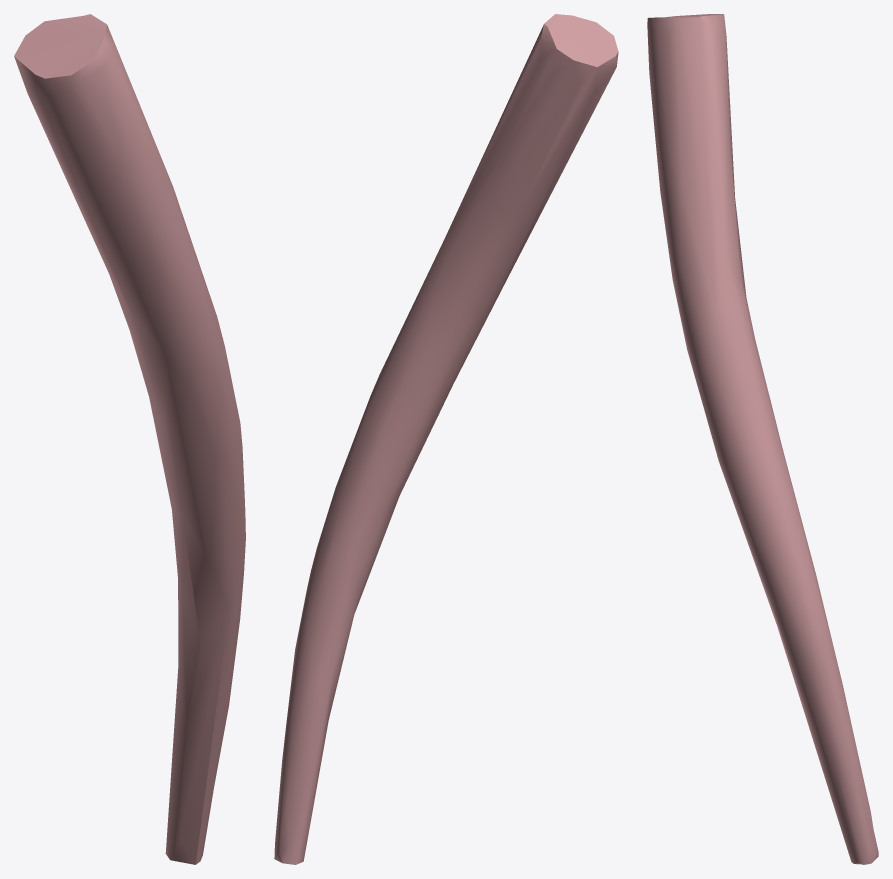
Rendered from fma68232_fj2532.glb.
3 views of the same model, side by side, from view 1: azimuth 30°, elevation 25°; view 2: azimuth 150°, elevation 25°; view 3: azimuth 270°, elevation 25° (orthographic). The views are drawn at different scales.
Parts seen in each view (by area): view 1: FMA68232_FJ2532; view 2: FMA68232_FJ2532; view 3: FMA68232_FJ2532.
Part boxes in pixels (x1,y1,x2,y2): FMA68232_FJ2532: [14, 14, 245, 864]; FMA68232_FJ2532: [274, 14, 618, 864]; FMA68232_FJ2532: [647, 14, 878, 864].
Bounding box in the file's own units: 0.018 × 0.0577 × 0.0158.
